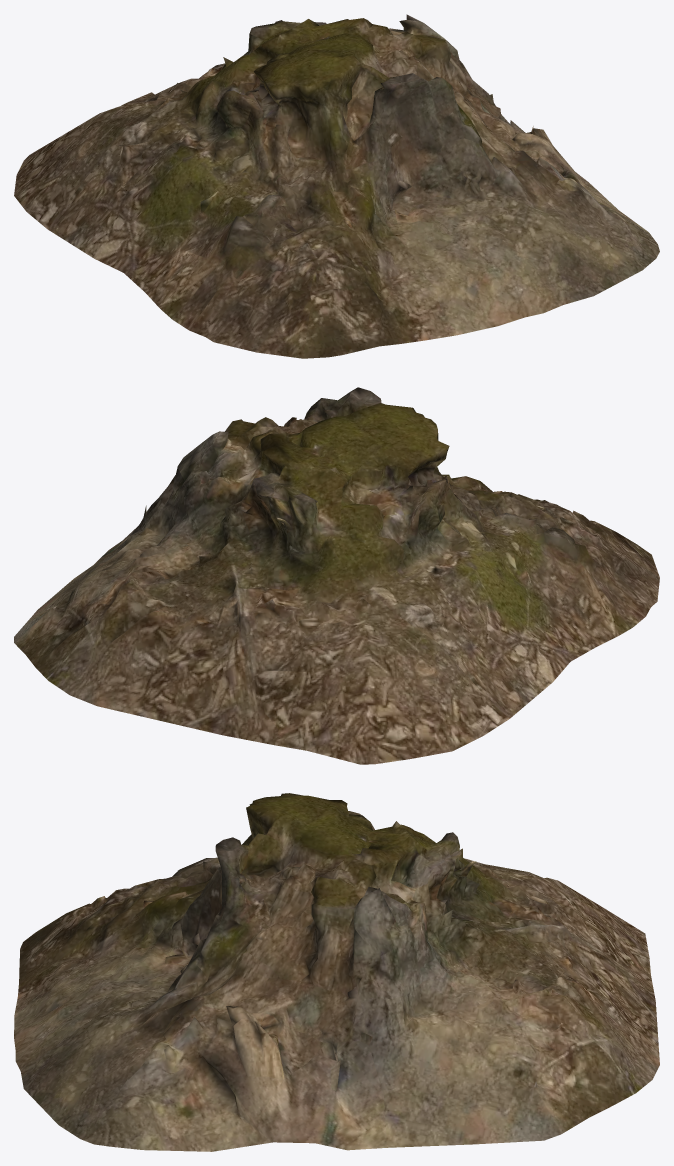
File: tocon.glb
3 renders of one model, top to bottom at view 1: azimuth 30°, elevation 25°; view 2: azimuth 150°, elevation 25°; view 3: azimuth 270°, elevation 25°, orthographic. The views are drawn at different scales.
Visible parts, largest first — view 1: tree_stump_01; view 2: tree_stump_01; view 3: tree_stump_01.
Part boxes in pixels (x1=…): tree_stump_01: x1=14, y1=14, x2=659, y2=358; tree_stump_01: x1=14, y1=387, x2=659, y2=764; tree_stump_01: x1=14, y1=793, x2=659, y2=1151.
Bounding box in the file's own units: 1.43 × 0.571 × 1.59.
Materials: 1 (1 with a texture image).
